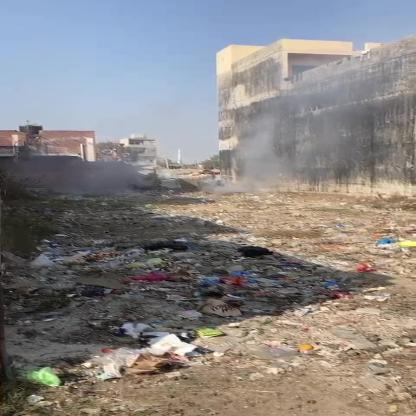Garbage: (10, 234, 396, 384)
